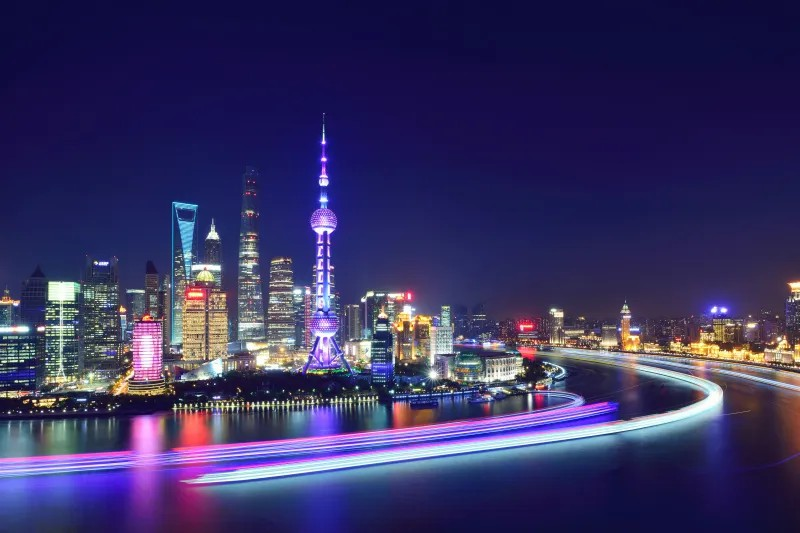Oriental: (303, 112, 352, 374)
